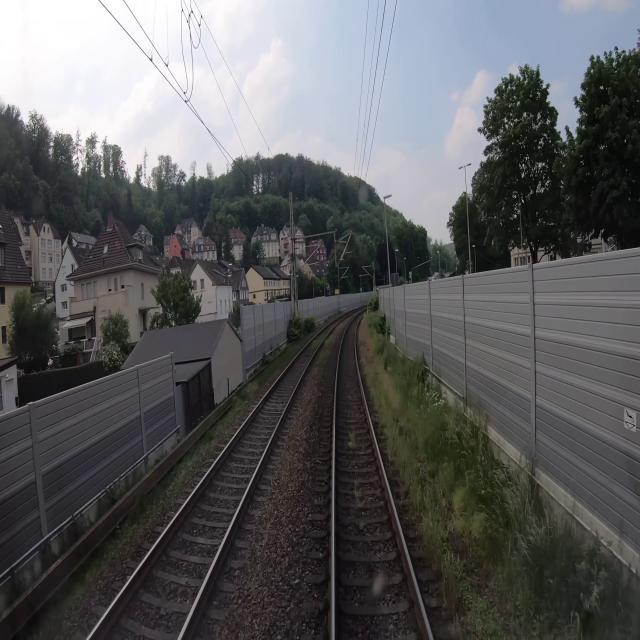Plant: (359, 345, 505, 639)
